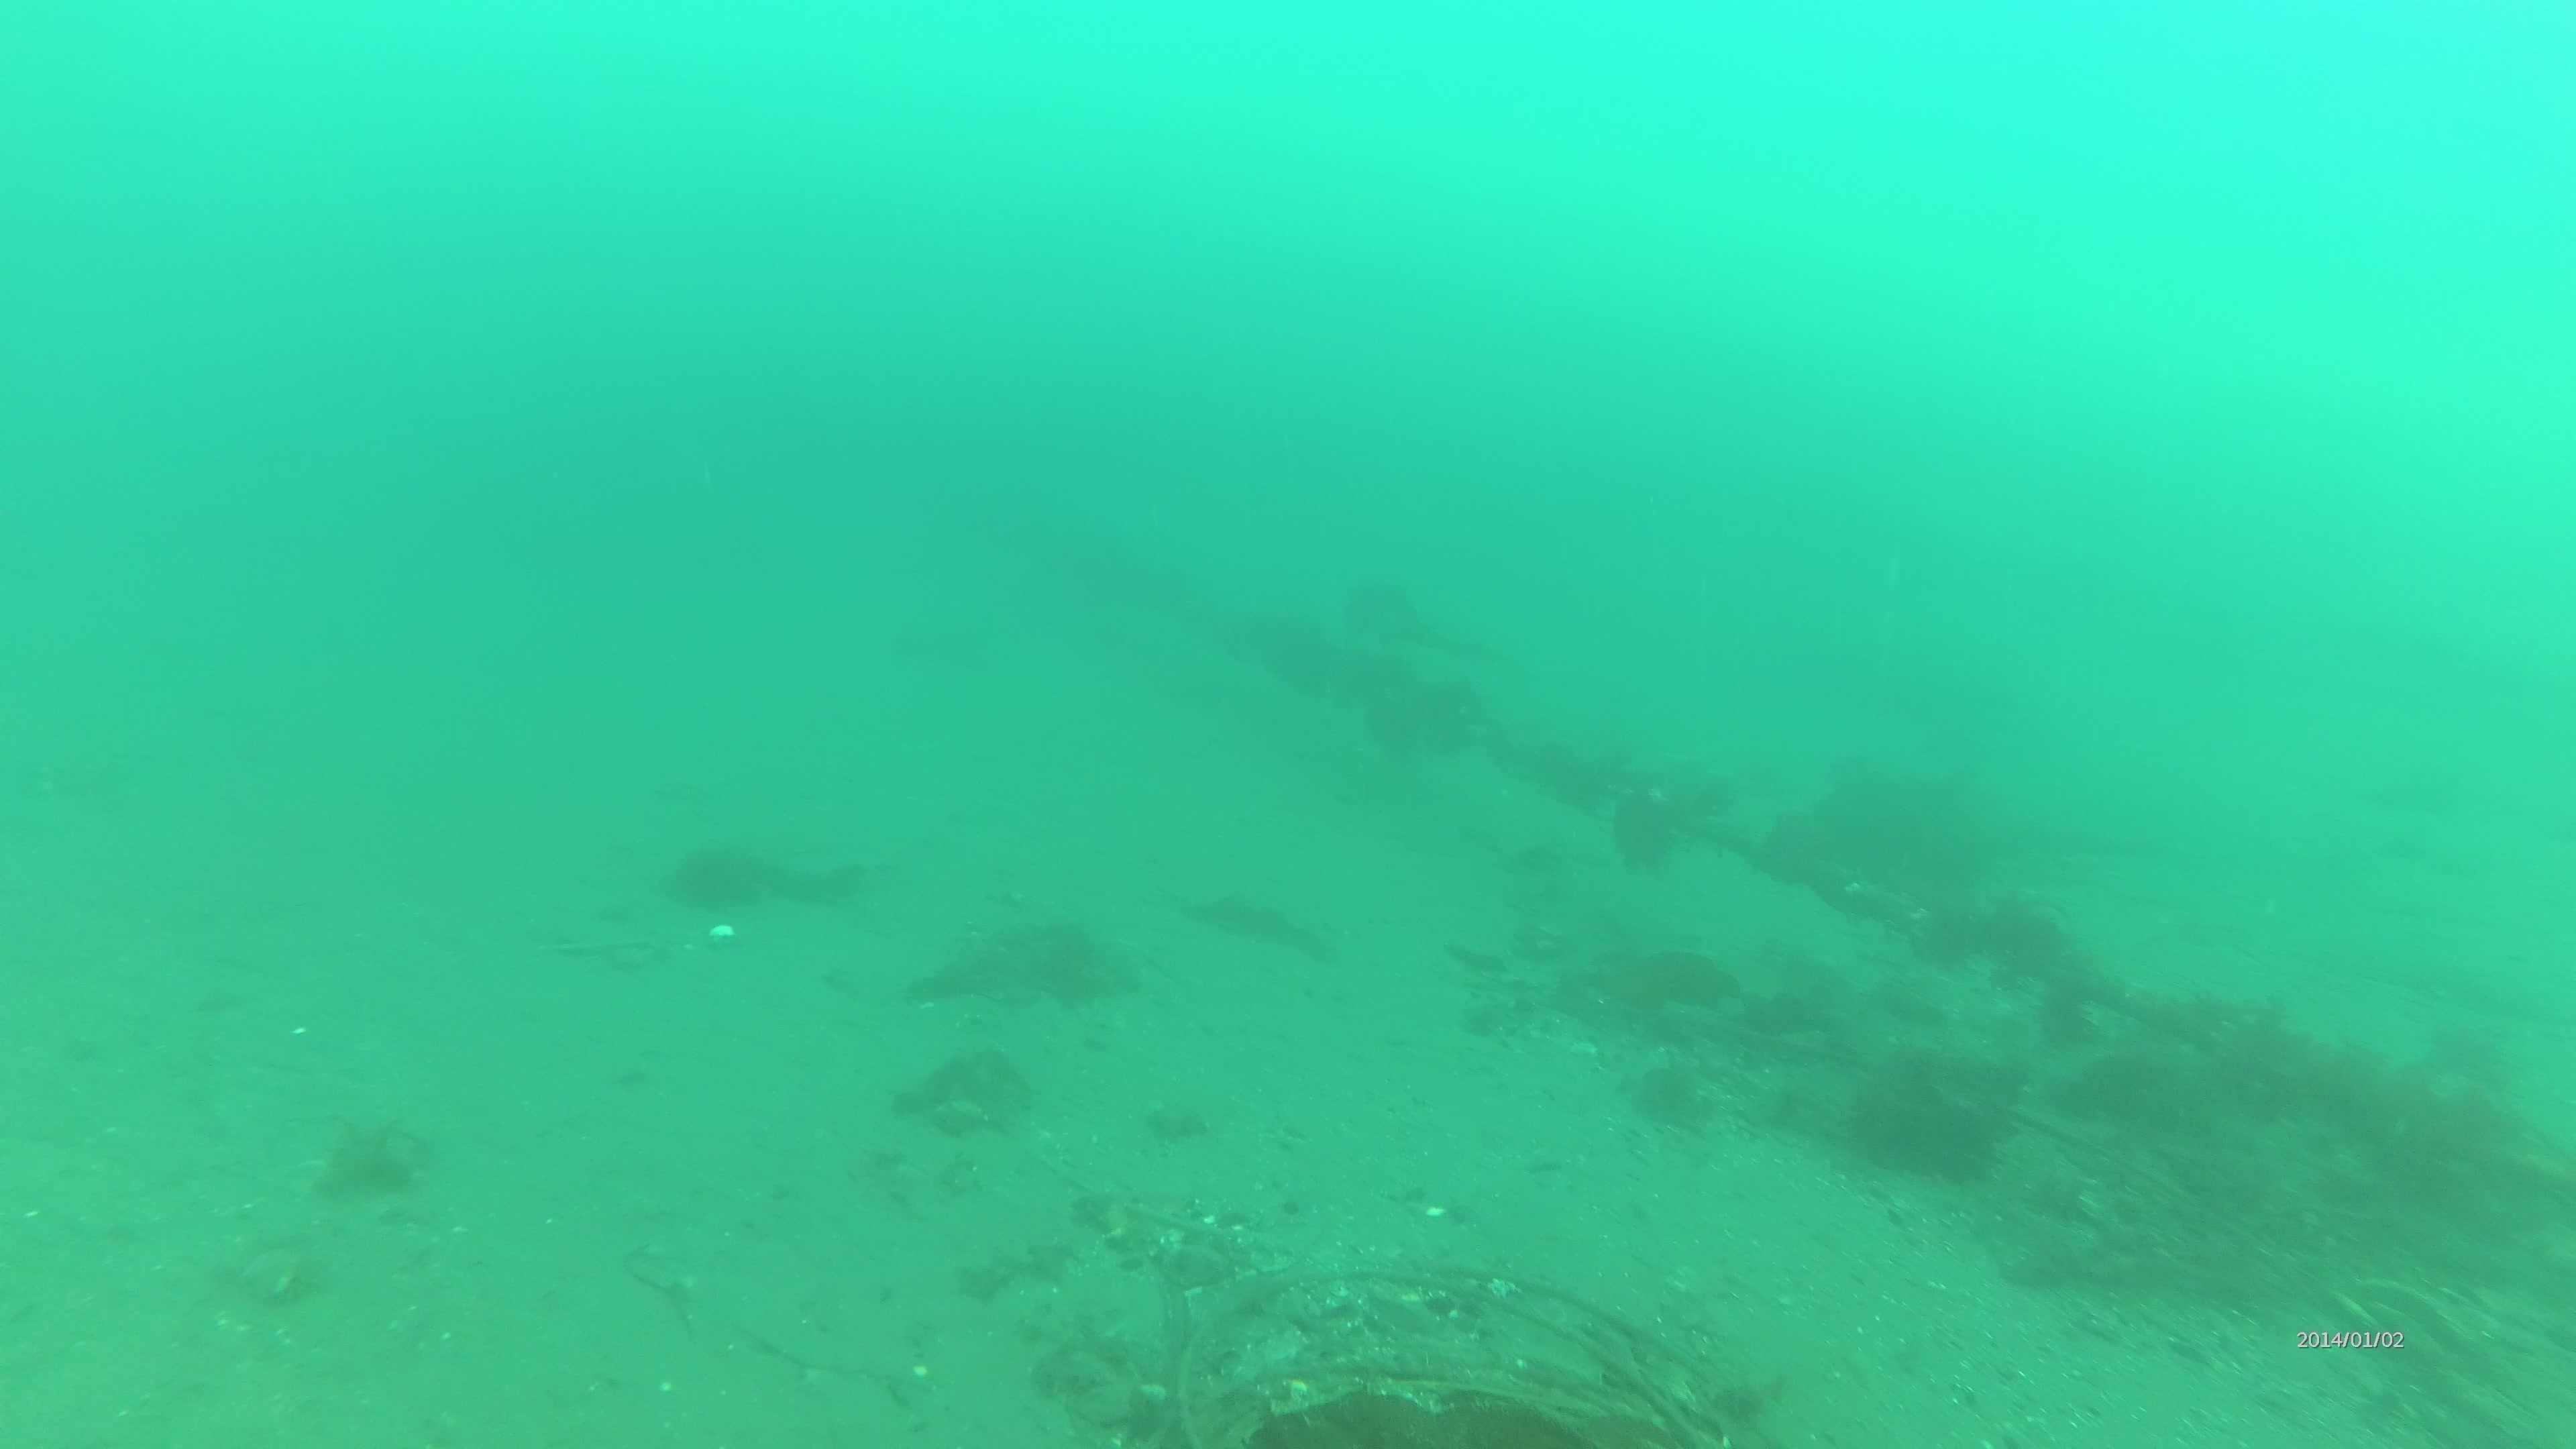echinus: (1840, 1044, 2017, 1189), (1601, 780, 1688, 874), (1622, 1051, 1714, 1136)
